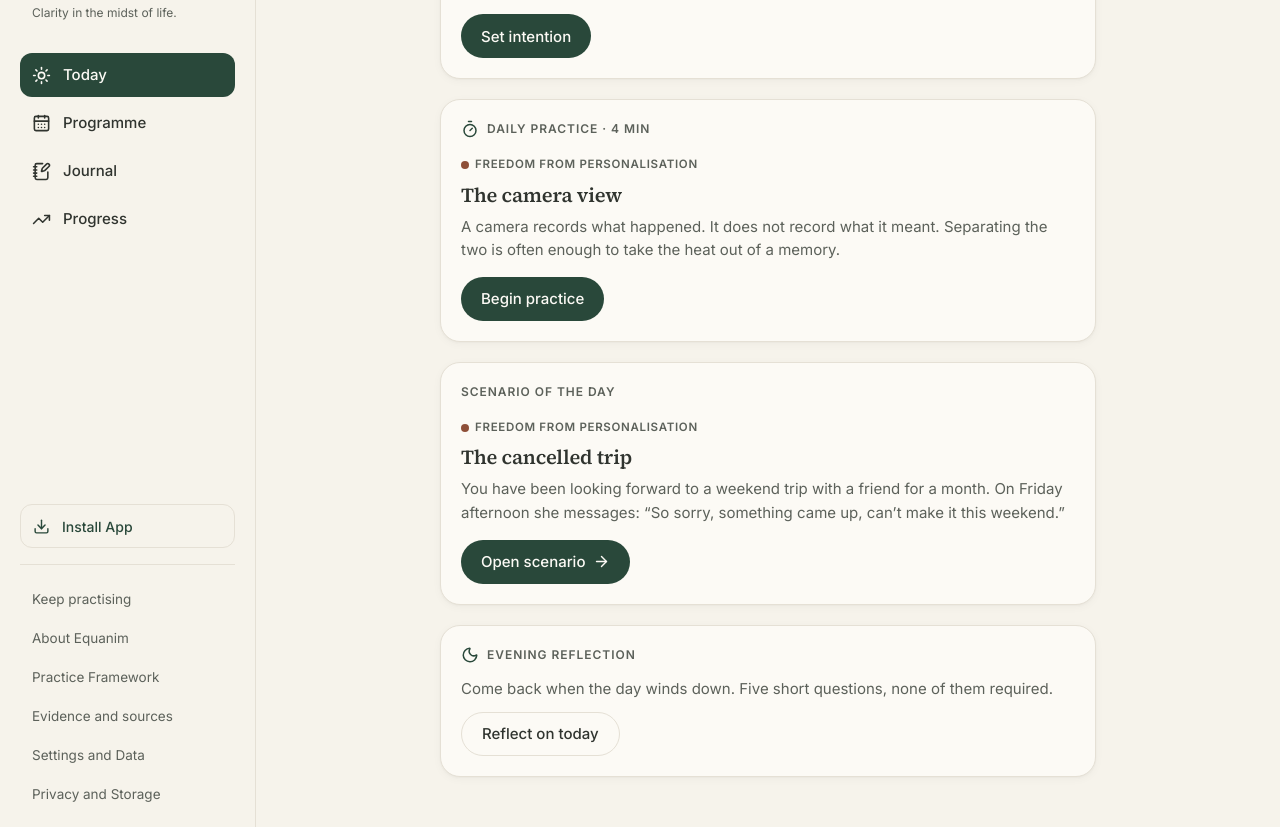
it: today › evening reflection saves the five questions
This screenshot has width=1280, height=827.
(page scrolled)
Click the button "Reflect on today" at {"x": 540, "y": 734}, box [461,712,620,756]
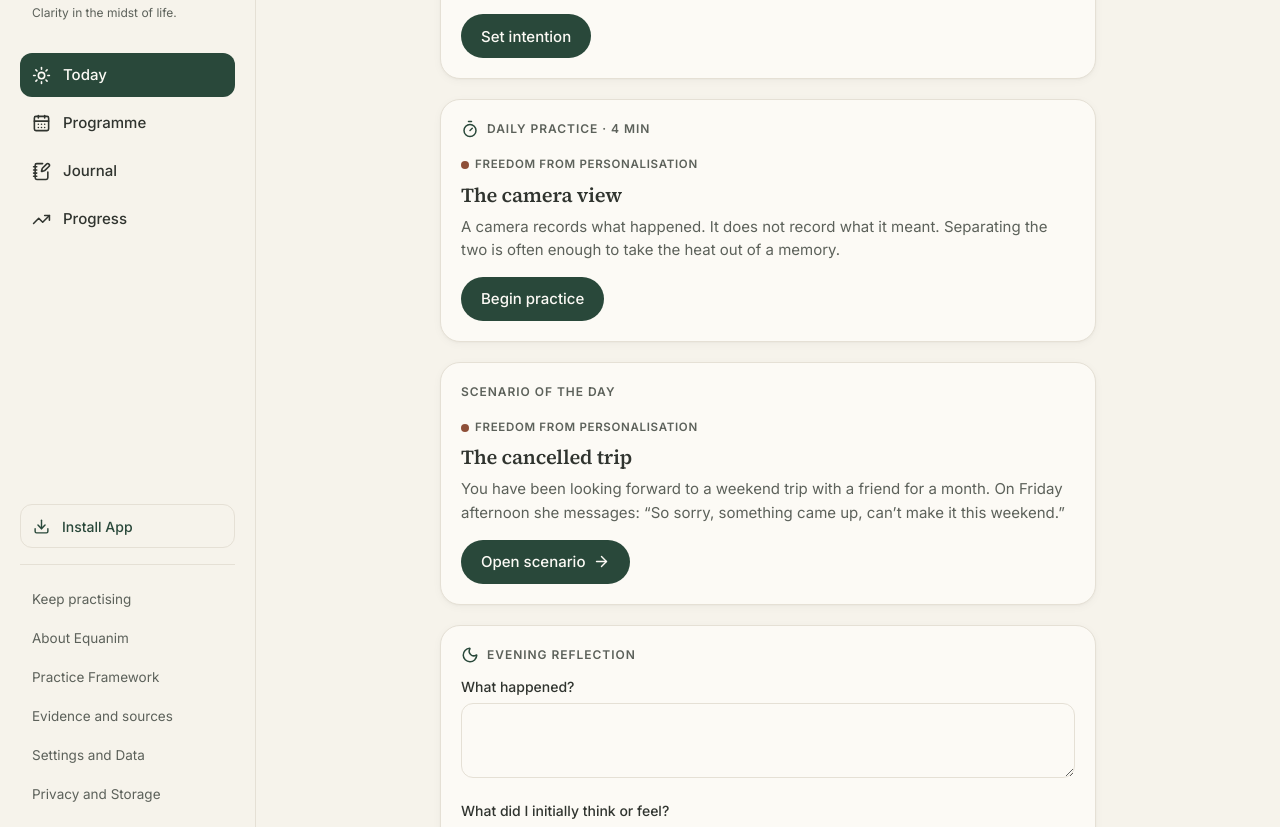
Expected: the text box labelled "What happened?" is shown
Type "A tense call" into the text box labelled "What happened?" at {"x": 768, "y": 740}, box [461,703,1075,778]
(page scrolled)
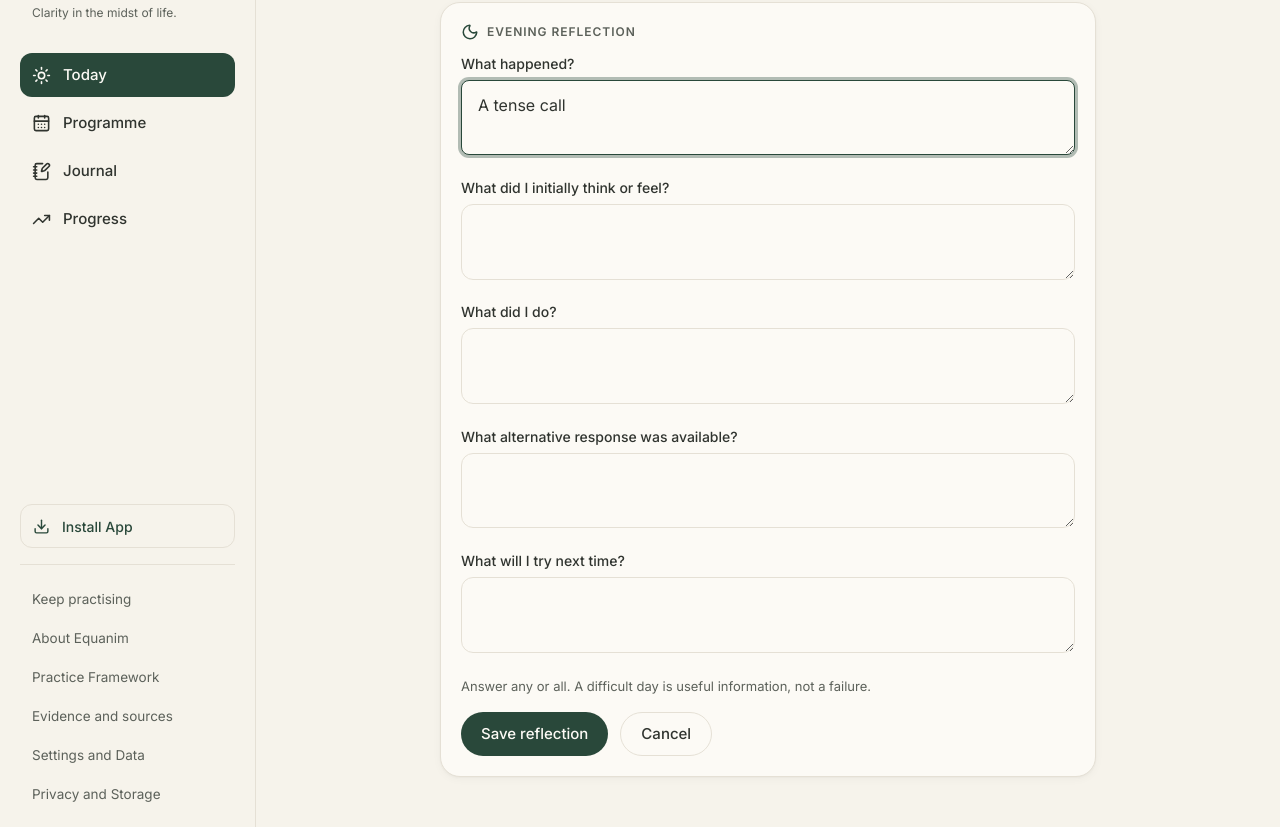
Type "Pause first" into the text box labelled "What will I try next time?" at {"x": 768, "y": 615}, box [461,577,1075,653]
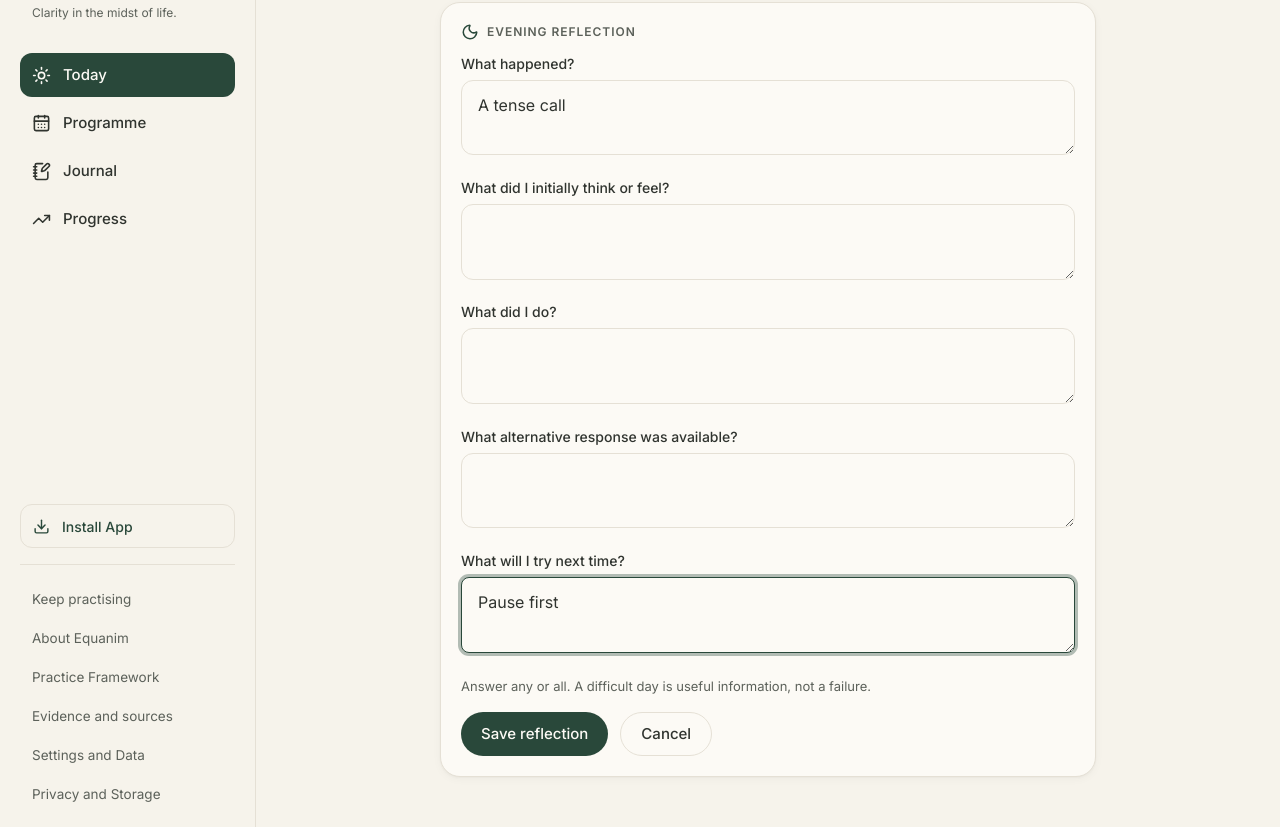
Click the button "Save reflection" at {"x": 535, "y": 734}, box [461,712,608,756]
(page scrolled)
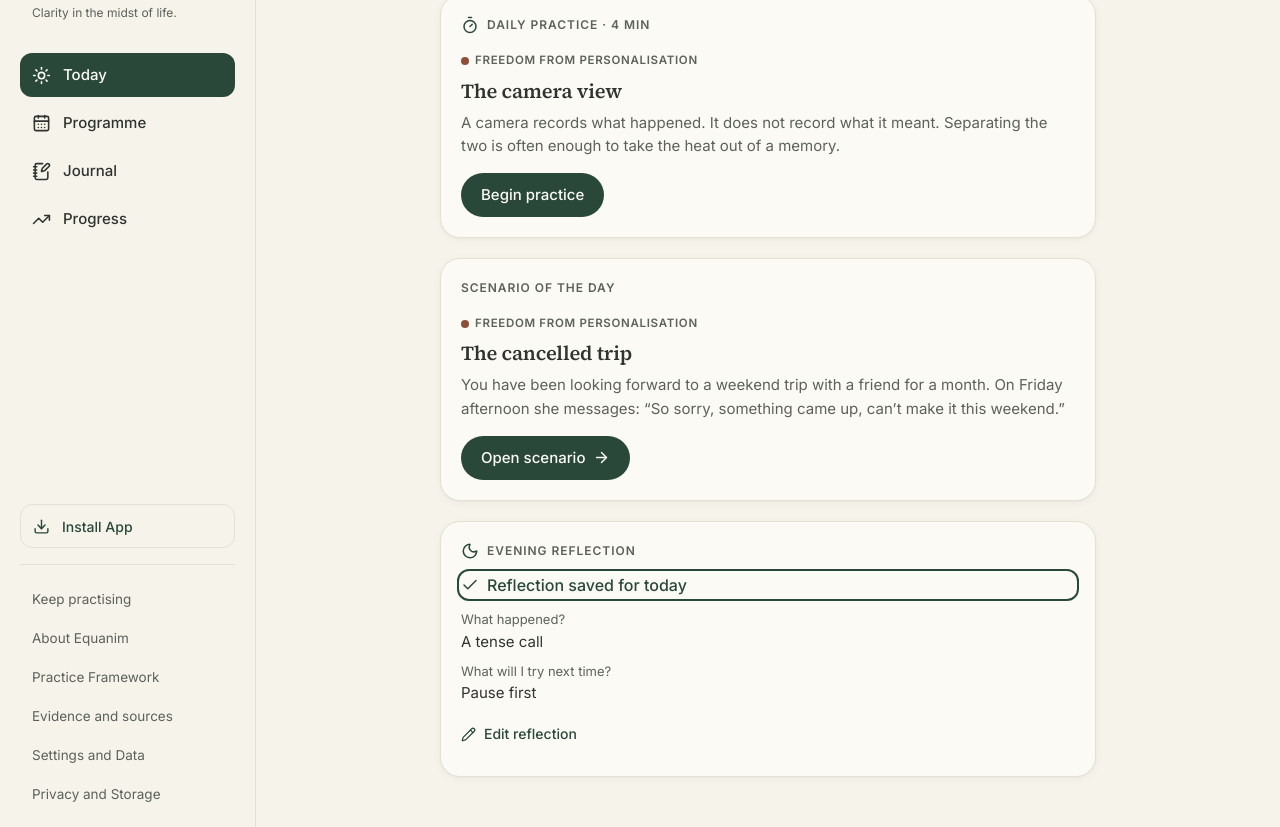
Expected: the text "A tense call" is shown, [461,632,543,650]
